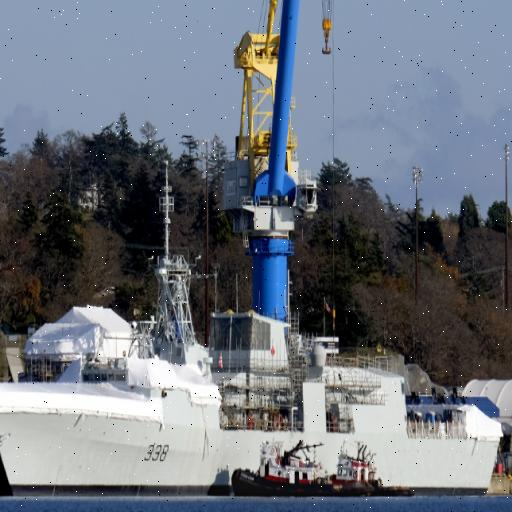Fragata: (1, 165, 507, 502)
